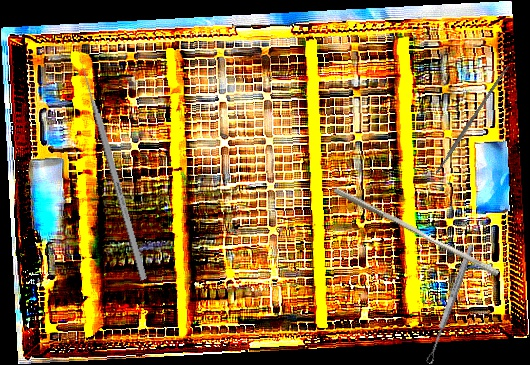Pusher: (75, 53, 149, 281), (329, 186, 503, 278)
Scalpel Handle: (433, 64, 511, 175)
Surgical Spoon: (424, 243, 476, 365)
